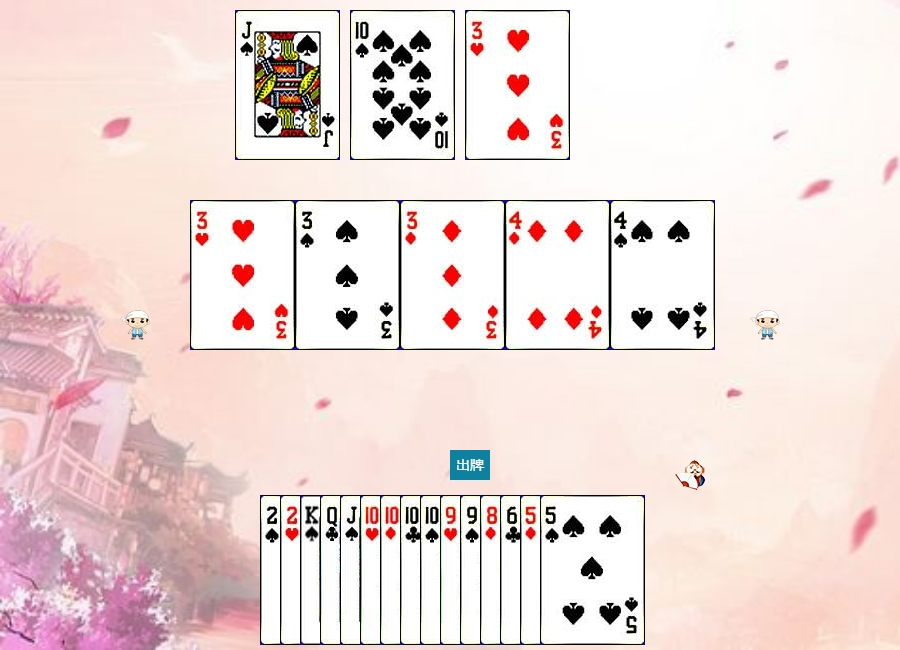10~1: (380, 495, 485, 645)
10~2: (400, 495, 505, 645)
10~3: (360, 495, 465, 645)
10~4: (350, 10, 455, 160), (420, 495, 525, 645)
11~4: (235, 10, 340, 160), (340, 495, 445, 645)
12~2: (320, 495, 425, 645)
13~4: (300, 495, 405, 645)
15~3: (280, 495, 385, 645)
15~4: (260, 495, 365, 645)
3~1: (400, 200, 505, 350)
3~3: (465, 10, 570, 160), (190, 200, 295, 350)
3~4: (295, 200, 400, 350)
4~1: (505, 200, 610, 350)
4~4: (610, 200, 715, 350)
5~1: (520, 495, 625, 645)
5~4: (540, 495, 645, 645)
6~2: (500, 495, 605, 645)
8~1: (480, 495, 585, 645)
9~3: (440, 495, 545, 645)
9~4: (460, 495, 565, 645)
